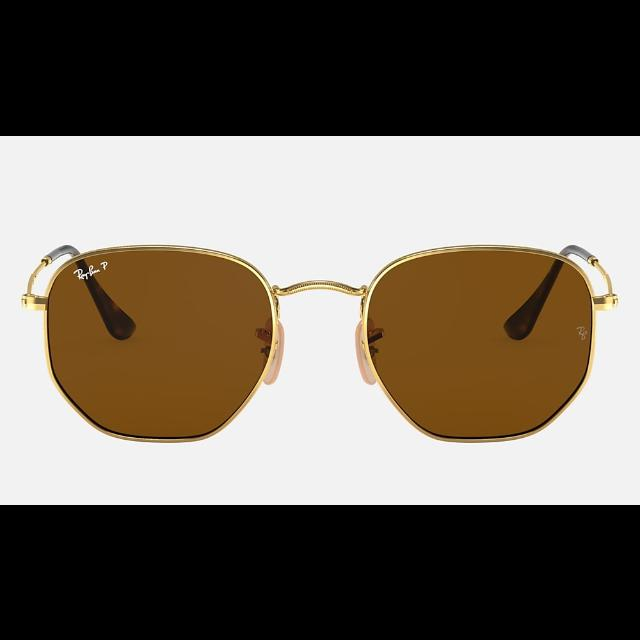Sunglasses: (24, 242, 616, 443)
